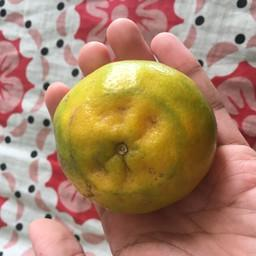Good_orange: (52, 62, 220, 220)
